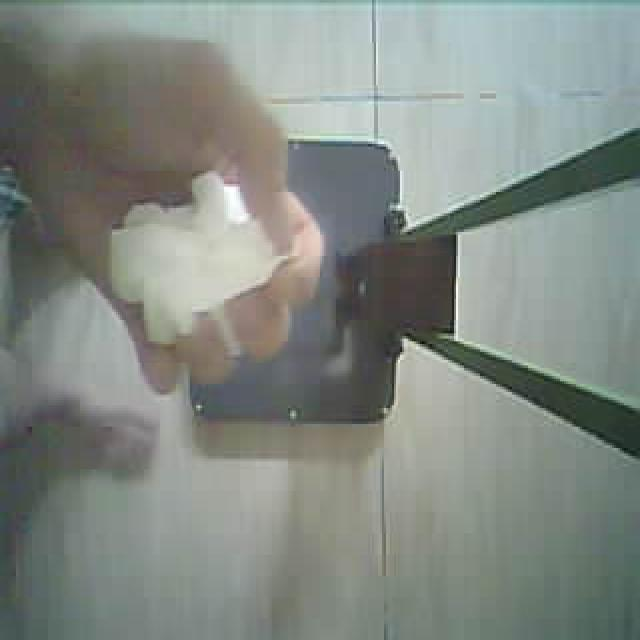Paper: (95, 178, 298, 356)
